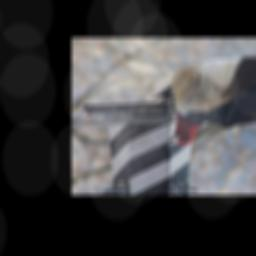Woodpecker: (155, 54, 256, 151)
